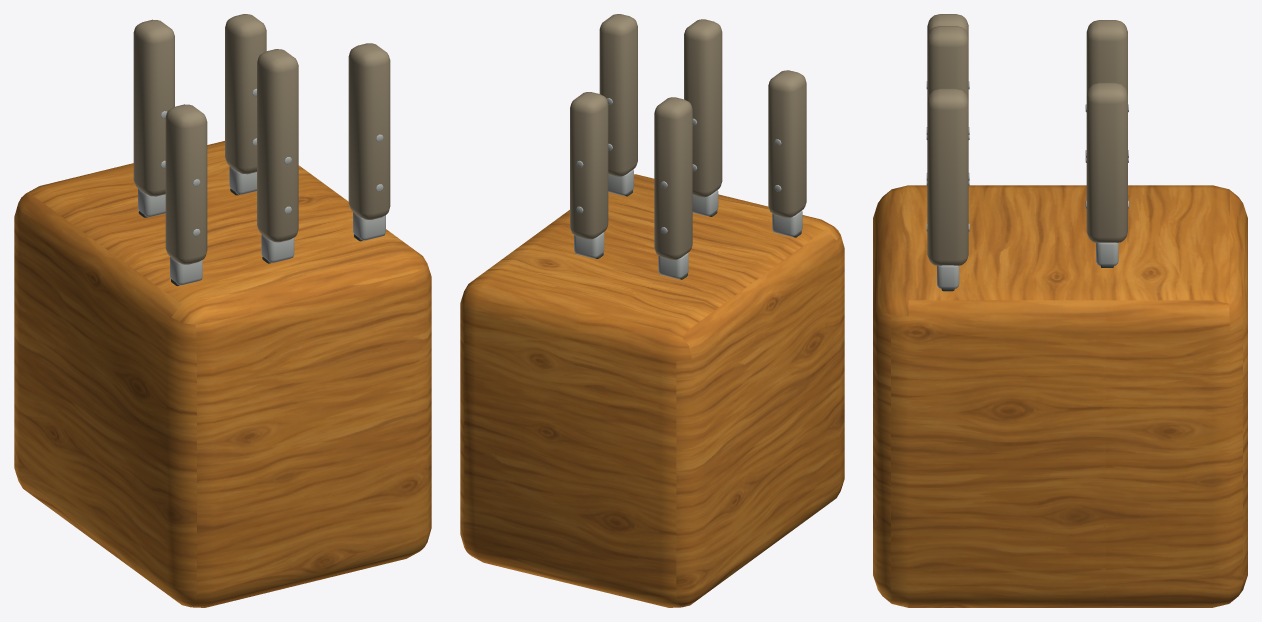
File: knife-block.glb
3 renders of one model, left to right at view 1: azimuth 30°, elevation 25°; view 2: azimuth 150°, elevation 25°; view 3: azimuth 270°, elevation 25°, orthographic. The views are drawn at different scales.
Parts seen in each view (by area): view 1: knife-block; view 2: knife-block; view 3: knife-block.
Part boxes in pixels (x1=…): knife-block: x1=14, y1=14, x2=431, y2=607; knife-block: x1=460, y1=14, x2=844, y2=607; knife-block: x1=873, y1=14, x2=1247, y2=607.
Size of the model in its own units: 0.18 by 0.34 by 0.22.
Materials: 4 (1 with a texture image).
